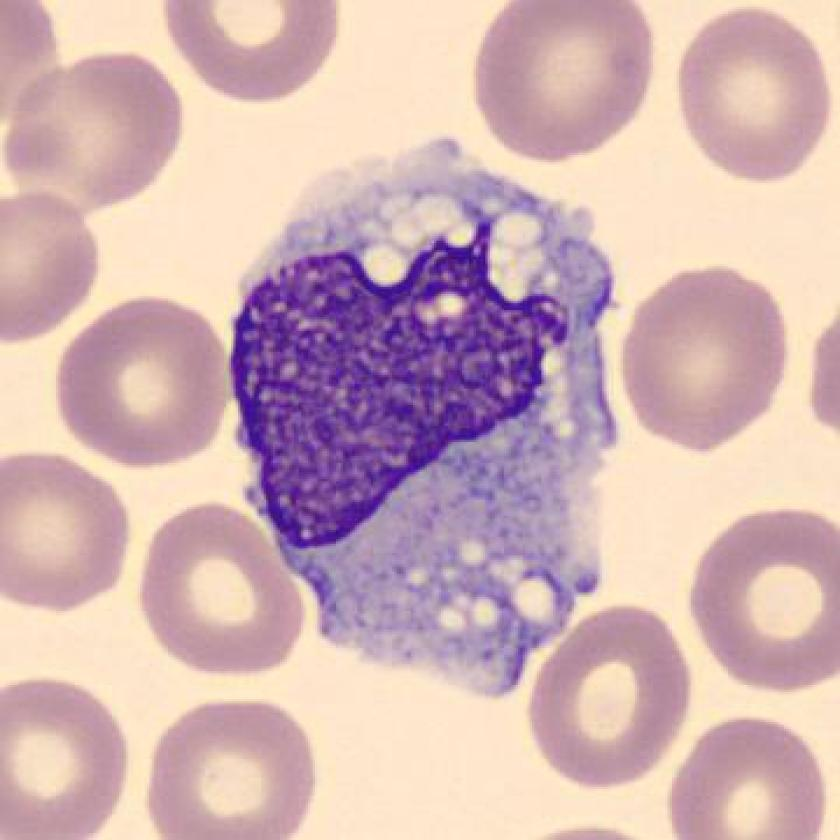monocyte: (216, 121, 645, 716)
